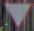Give way: (1, 0, 33, 28)
